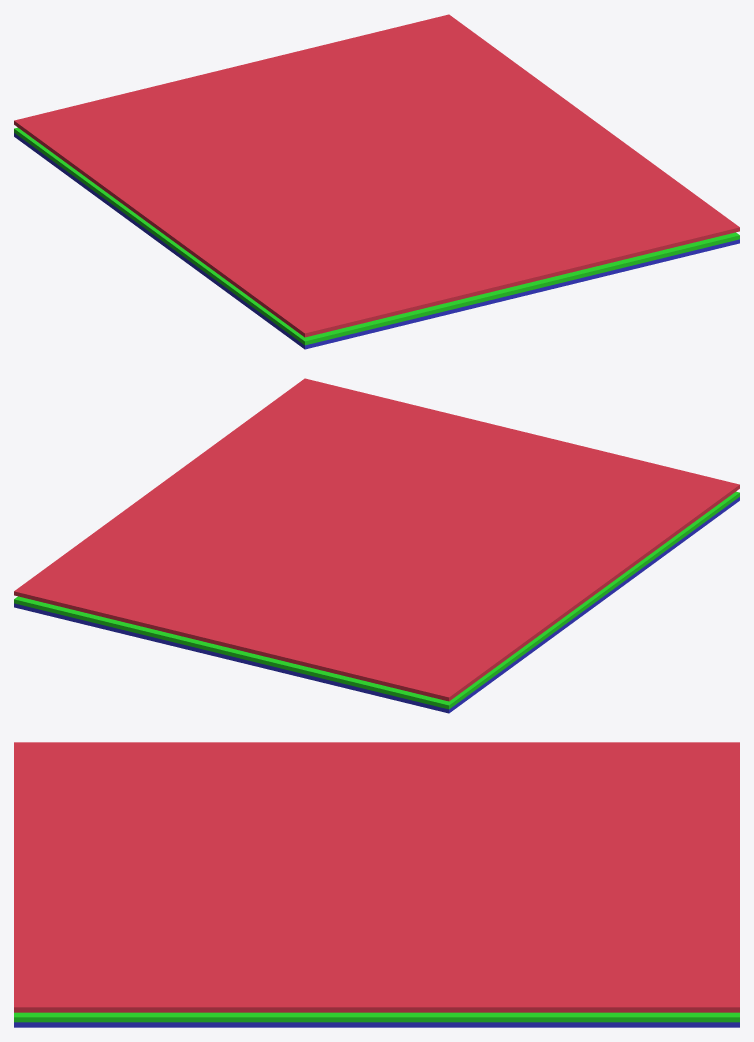
The model's file is lqs.gltf.
3 views of the same model, one above another, from view 1: azimuth 30°, elevation 25°; view 2: azimuth 150°, elevation 25°; view 3: azimuth 270°, elevation 25° (orthographic). The views are drawn at different scales.
Parts seen in each view (by area): view 1: DC01, DC02, DC03; view 2: DC01, DC02, DC03; view 3: DC01, DC02, DC03.
Boxes of the visible parts, x1,y1,x2,y2 form: DC01: (14, 14, 739, 337); DC02: (14, 127, 739, 345); DC03: (14, 133, 739, 349); DC01: (14, 378, 739, 701); DC02: (14, 491, 739, 709); DC03: (14, 497, 739, 713); DC01: (14, 742, 739, 1012); DC02: (14, 1012, 739, 1022); DC03: (14, 1022, 739, 1027).
Size of the model in its own units: 112529 by 3970 by 130297.
